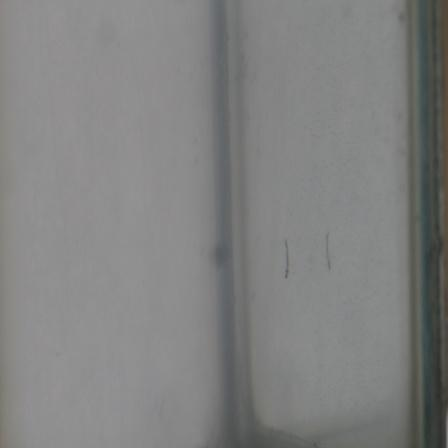Jentik-Nyamuk: (279, 233, 293, 279)
